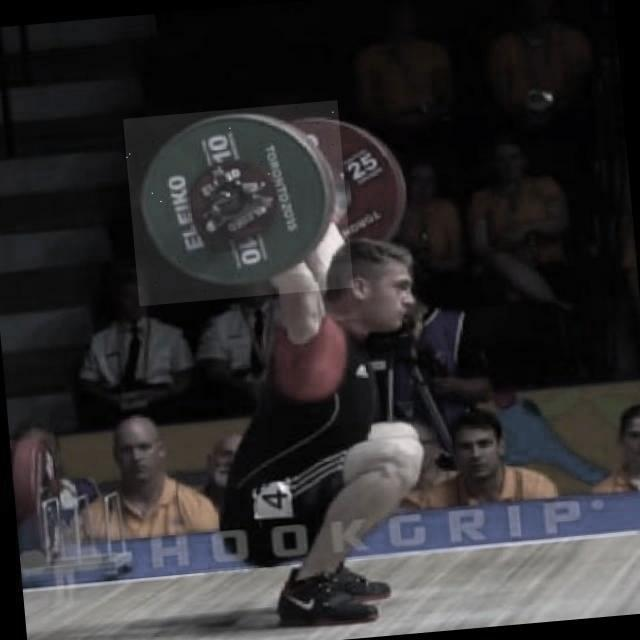barbell: (123, 101, 355, 307)
